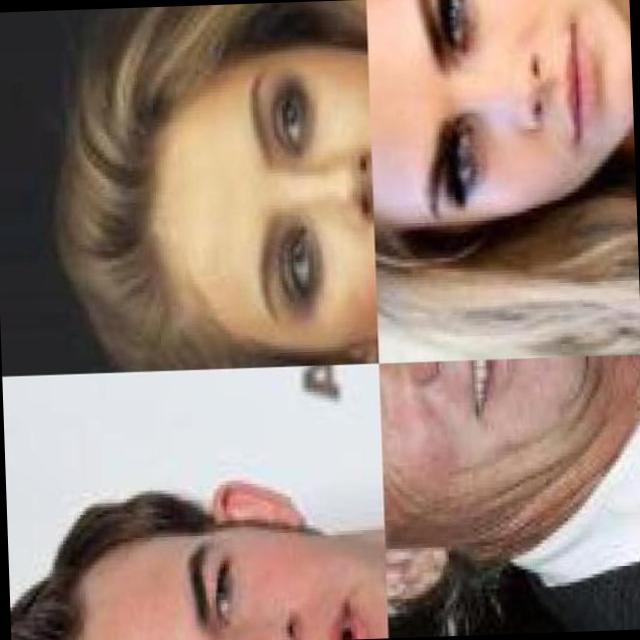bareface: (371, 0, 634, 271)
